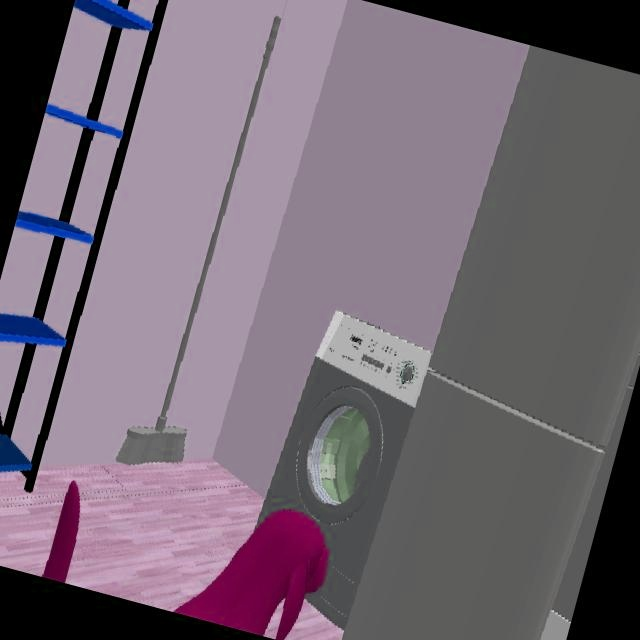fridge: (342, 45, 640, 640)
shelf: (0, 0, 154, 493)
